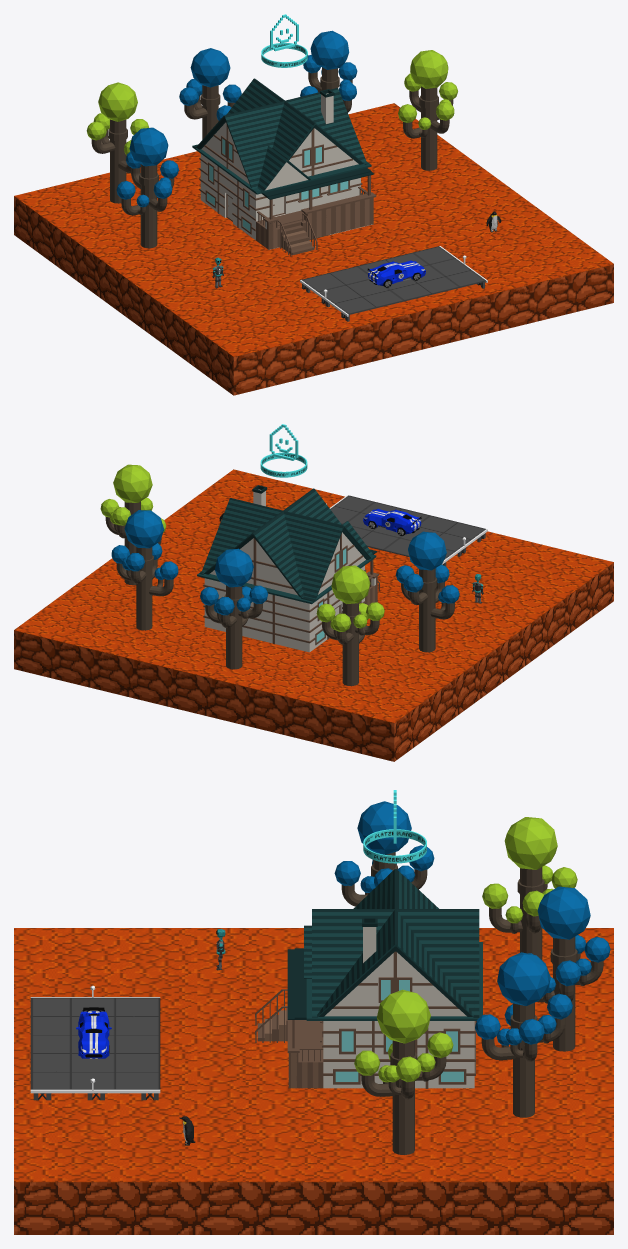
3 renders of one model, top to bottom at view 1: azimuth 30°, elevation 25°; view 2: azimuth 150°, elevation 25°; view 3: azimuth 270°, elevation 25°, orthographic. The views are drawn at different scales.
Visible parts, largest first — view 1: Cube.001, Cube.793, VEHICLES_RACING_CAR, TYPE_PREMIUM; view 2: Cube.001, Cube.793, VEHICLES_RACING_CAR, TYPE_PREMIUM; view 3: Cube.001, Cube.793, VEHICLES_RACING_CAR, TYPE_PREMIUM.
Boxes of the visible parts, x1,y1,x2,y2 form: Cube.001: (14, 30, 613, 395); Cube.793: (192, 78, 376, 256); VEHICLES_RACING_CAR: (367, 260, 425, 287); TYPE_PREMIUM: (261, 14, 307, 67); Cube.001: (14, 464, 613, 761); Cube.793: (197, 485, 379, 652); VEHICLES_RACING_CAR: (363, 508, 421, 535); TYPE_PREMIUM: (260, 424, 307, 477); Cube.001: (14, 801, 613, 1234); Cube.793: (255, 869, 482, 1088); VEHICLES_RACING_CAR: (76, 1007, 111, 1058); TYPE_PREMIUM: (363, 790, 426, 863).
Bounding box in the file's own units: 4000 × 2388 × 4000.
Materials: 35 (6 with a texture image).
